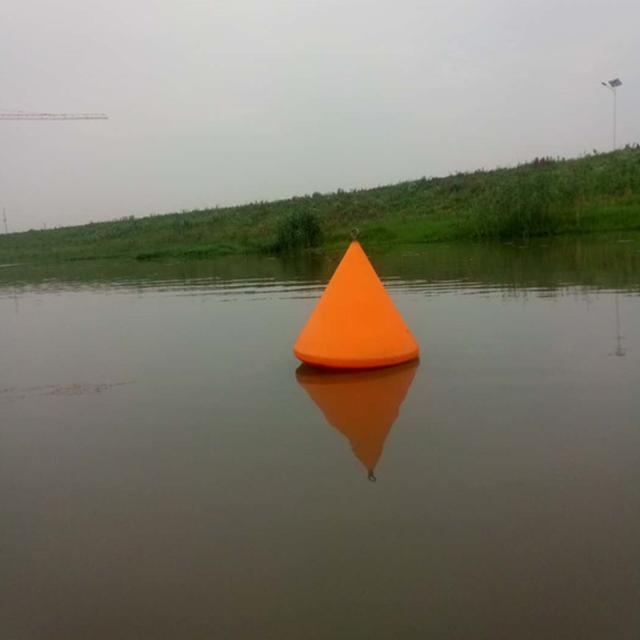buoy: (291, 228, 418, 371)
